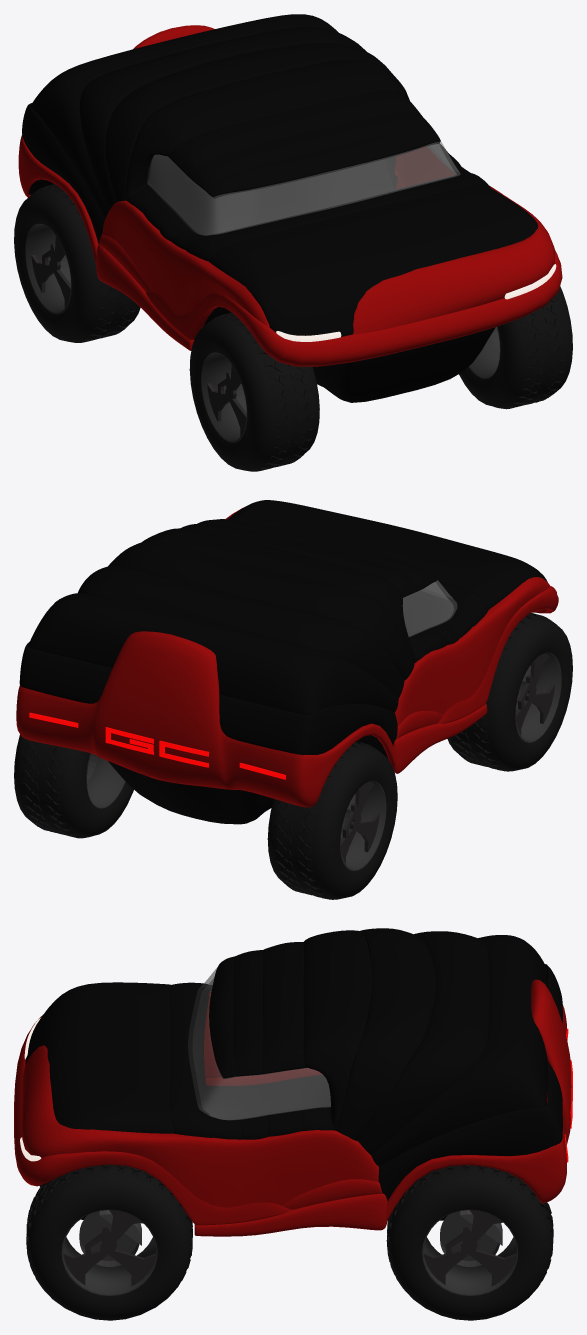
3 renders of one model, top to bottom at view 1: azimuth 30°, elevation 25°; view 2: azimuth 150°, elevation 25°; view 3: azimuth 270°, elevation 25°, orthographic. The views are drawn at different scales.
Parts seen in each view (by area): view 1: body_paint_base, tire (×3), body_paint_trim_1, body_paint_sole, body_glass, body_paint_trim_2, rim_barrel (×3), body_paint_trim_5, rim_face (×2), body_paint_trim_4, body_paint_trim_3, body_light_head; view 2: body_paint_base, tire (×3), body_paint_trim_5, body_paint_trim_1, body_paint_sole, rim_barrel (×3), rim_face (×2), body_paint_trim_2, body_glass, body_paint_trim_4, body_light_tail, body_paint_trim_3; view 3: body_paint_base, tire (×2), body_paint_trim_1, body_glass, body_paint_trim_5, body_paint_trim_2, rim_face (×2), body_paint_trim_4, rim_barrel (×2), body_paint_sole, brake_disc (×2), body_paint_trim_3.
Part boxes in pixels (<box>): body_paint_base: <box>22,14,538,336</box>; tire (×3): <box>14,184,572,471</box>; body_paint_trim_1: <box>102,146,554,334</box>; body_paint_sole: <box>28,155,495,402</box>; body_glass: <box>147,141,460,235</box>; body_paint_trim_2: <box>145,250,562,366</box>; rim_barrel (×3): <box>25,223,500,442</box>; body_paint_trim_5: <box>18,25,214,265</box>; rim_face (×2): <box>31,235,246,436</box>; body_paint_trim_4: <box>96,178,402,350</box>; body_paint_trim_3: <box>99,163,402,292</box>; body_light_head: <box>276,264,556,341</box>; body_paint_base: <box>19,500,547,755</box>; tire (×3): <box>14,613,572,899</box>; body_paint_trim_5: <box>16,631,396,807</box>; body_paint_trim_1: <box>225,507,550,725</box>; body_paint_sole: <box>108,595,453,824</box>; rim_barrel (×3): <box>86,652,561,871</box>; rim_face (×2): <box>340,653,554,863</box>; body_paint_trim_2: <box>438,586,558,723</box>; body_glass: <box>402,580,456,637</box>; body_paint_trim_4: <box>393,704,487,773</box>; body_light_tail: <box>29,712,285,779</box>; body_paint_trim_3: <box>396,711,442,738</box>; body_paint_base: <box>25,928,562,1200</box>; tire (×2): <box>26,1164,553,1320</box>; body_paint_trim_1: <box>21,992,378,1207</box>; body_glass: <box>188,967,330,1120</box>; body_paint_trim_5: <box>386,979,571,1220</box>; body_paint_trim_2: <box>14,1015,291,1225</box>; rim_face (×2): <box>63,1210,516,1286</box>; body_paint_trim_4: <box>194,1068,387,1236</box>; rim_barrel (×2): <box>61,1209,518,1296</box>; body_paint_sole: <box>39,1075,547,1223</box>; brake_disc (×2): <box>79,1211,499,1267</box>; body_paint_trim_3: <box>277,1072,382,1209</box>.
Bounding box in the file's own units: 2.71 × 2.11 × 3.94.
